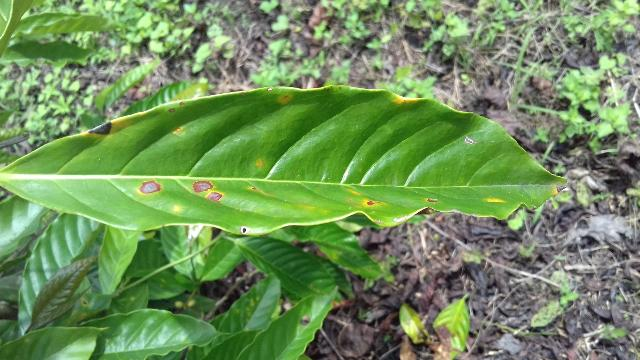rust_level_2: (2, 87, 569, 235)
